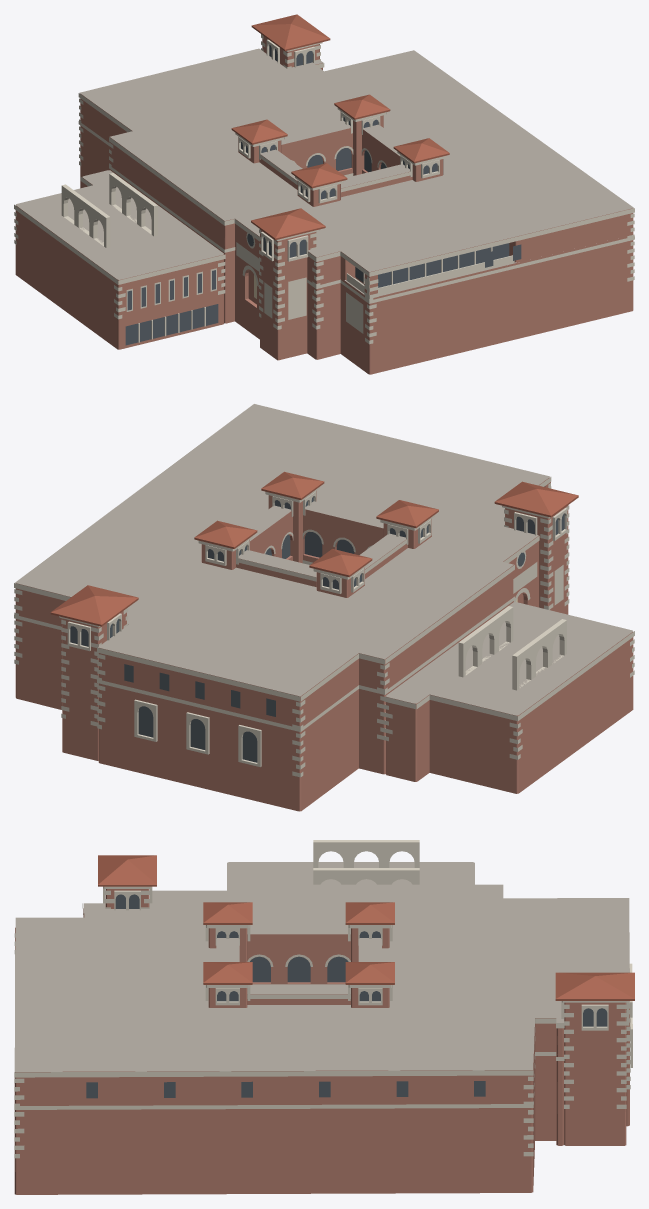
File: la-fowler-museum.glb
The picture shows the model from 3 angles, top to bottom: view 1: azimuth 30°, elevation 25°; view 2: azimuth 150°, elevation 25°; view 3: azimuth 270°, elevation 25°; orthographic projection. The views are drawn at different scales.
Parts seen in each view (by area): view 1: Fowler Museum; view 2: Fowler Museum; view 3: Fowler Museum.
Part boxes in pixels (x1,y1,x2,y2): Fowler Museum: (14,14,634,374); Fowler Museum: (14,404,634,811); Fowler Museum: (14,840,634,1194).
Bounding box in the file's own units: 61.04 × 18.32 × 64.07.
